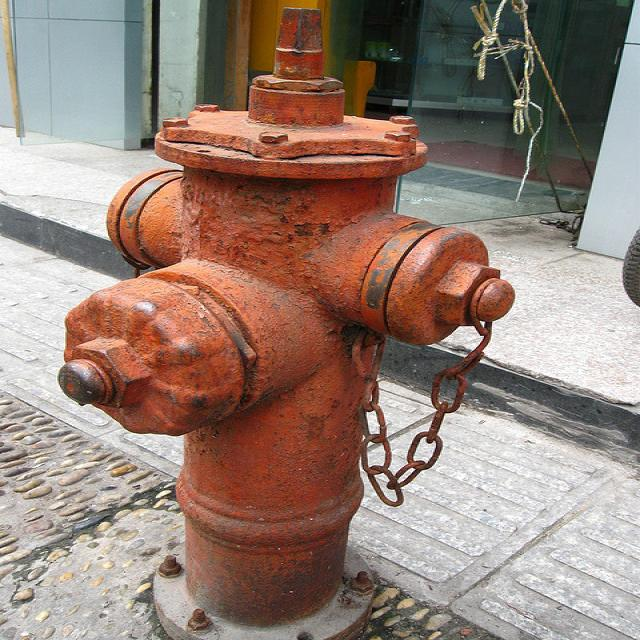fire_hydrant: (57, 7, 512, 640)
